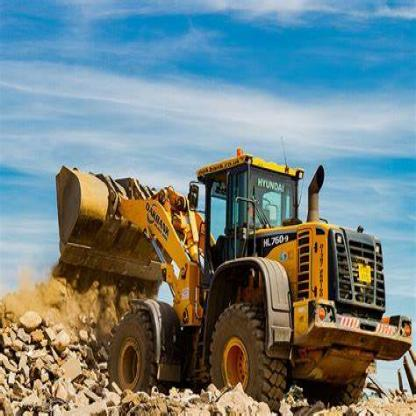bull_dozer/loader/grader: (50, 138, 409, 412)
